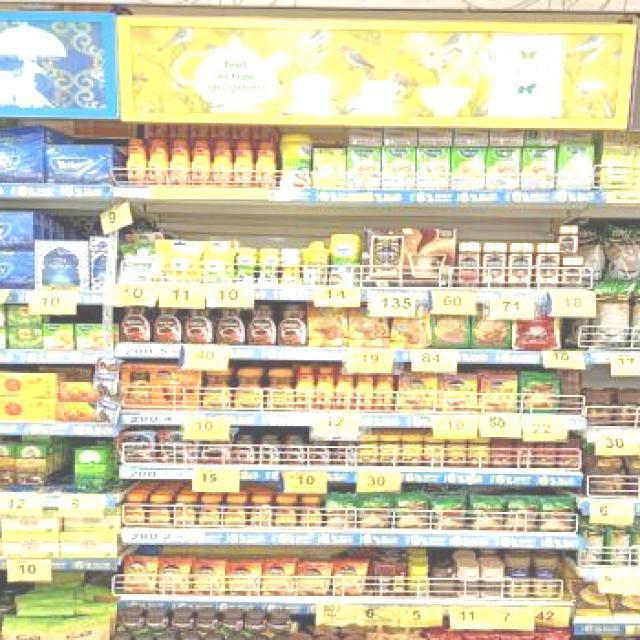Coffee: (308, 303, 347, 346), (350, 303, 388, 347), (392, 305, 430, 348), (399, 372, 437, 412), (478, 373, 516, 411), (201, 368, 234, 411), (232, 369, 264, 412), (157, 430, 195, 466), (183, 304, 216, 344), (114, 431, 154, 464), (246, 304, 277, 346), (438, 376, 476, 410), (120, 302, 152, 342), (278, 304, 308, 346), (265, 370, 295, 411), (124, 555, 156, 593), (216, 306, 247, 345), (152, 304, 182, 343), (227, 561, 260, 596), (296, 560, 328, 596), (483, 243, 508, 289), (332, 562, 365, 596), (260, 561, 292, 596), (158, 558, 189, 594), (508, 242, 532, 288), (537, 244, 560, 290), (194, 560, 224, 594), (200, 431, 230, 464), (354, 368, 376, 411), (335, 366, 356, 411), (125, 138, 146, 182), (257, 142, 277, 185), (317, 366, 336, 411), (192, 142, 212, 184), (235, 142, 253, 187), (376, 370, 396, 410), (172, 140, 190, 184), (214, 140, 232, 184), (273, 497, 299, 527), (296, 366, 315, 407), (150, 140, 168, 183), (201, 495, 225, 525), (250, 497, 274, 527), (562, 258, 585, 288), (124, 494, 147, 524), (234, 435, 258, 463), (258, 436, 282, 464), (149, 496, 171, 526), (301, 496, 323, 526), (558, 225, 579, 256), (176, 496, 199, 524), (284, 436, 306, 464), (226, 497, 248, 525), (309, 438, 331, 463), (334, 441, 355, 466), (121, 609, 144, 629), (146, 610, 168, 630), (222, 612, 245, 631), (172, 612, 196, 630), (248, 614, 268, 634), (271, 613, 292, 632), (198, 612, 220, 630)
